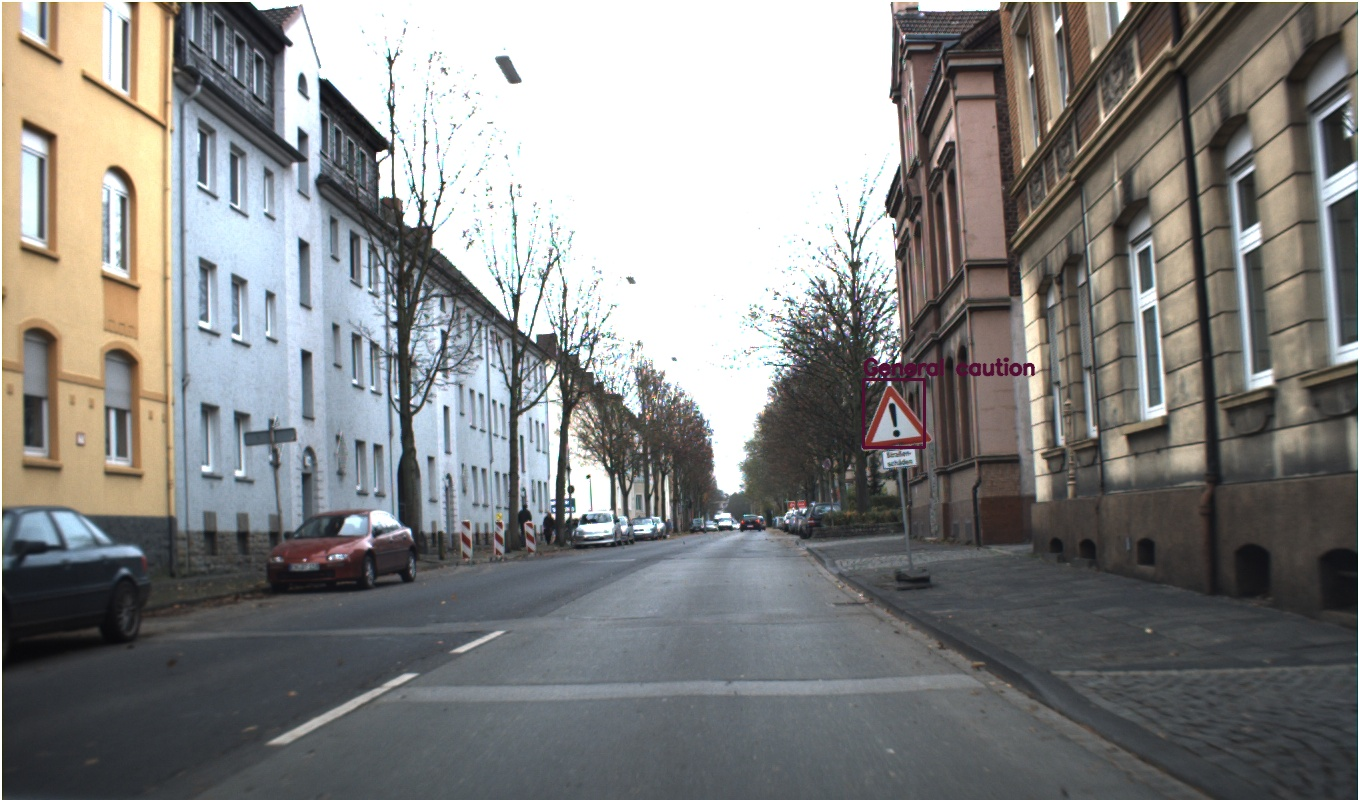Speed limit (30km/h): (937, 295, 998, 356)
